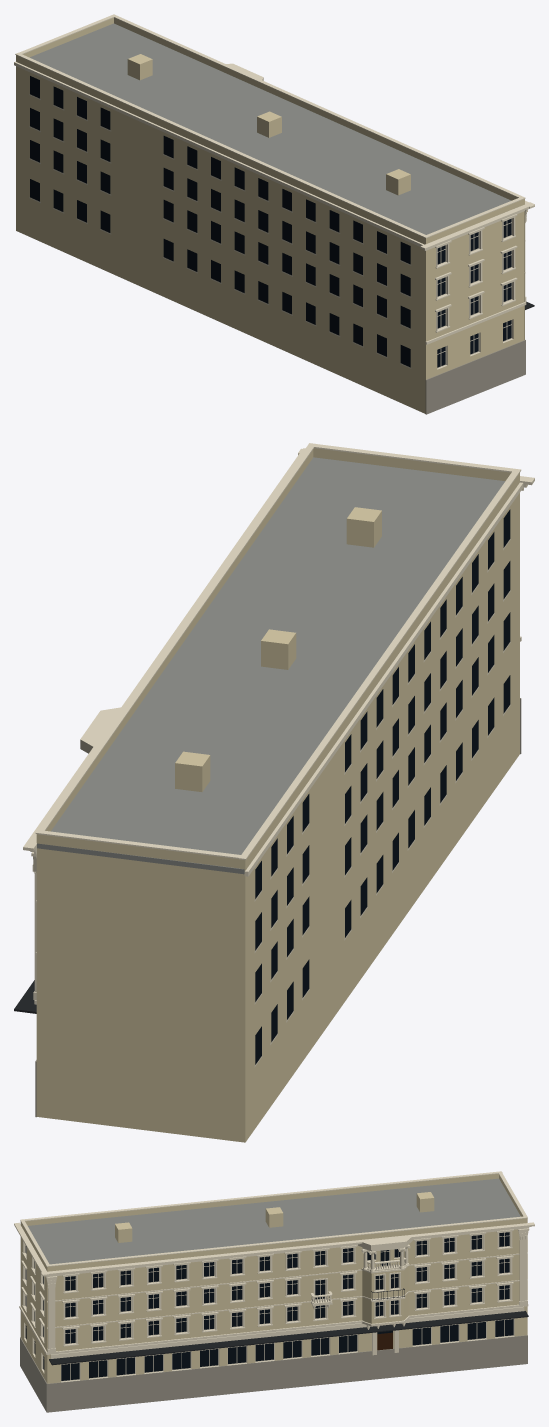
The model's file is bmorskaya48.glb.
The picture shows the model from 3 angles, top to bottom: view 1: azimuth 30°, elevation 25°; view 2: azimuth 150°, elevation 25°; view 3: azimuth 270°, elevation 25°; orthographic projection. The views are drawn at different scales.
Parts seen in each view (by area): view 1: bmorskaya48_wall, bmorskaya48_roof, bmorskaya48_glass, bmorskaya48_trim, bmorskaya48_stone; view 2: bmorskaya48_wall, bmorskaya48_roof, bmorskaya48_trim, bmorskaya48_glass; view 3: bmorskaya48_wall, bmorskaya48_trim, bmorskaya48_roof, bmorskaya48_stone, bmorskaya48_glass, bmorskaya48_metal, bmorskaya48_trim_s.
Part boxes in pixels (x1,y1,x2,y2): bmorskaya48_wall: (16, 18, 524, 413); bmorskaya48_roof: (29, 23, 511, 234); bmorskaya48_glass: (30, 76, 511, 367); bmorskaya48_trim: (14, 14, 534, 369); bmorskaya48_stone: (425, 340, 525, 414); bmorskaya48_wall: (36, 448, 519, 1142); bmorskaya48_roof: (37, 457, 504, 874); bmorskaya48_trim: (23, 443, 534, 1067); bmorskaya48_glass: (255, 509, 510, 1064); bmorskaya48_wall: (20, 1174, 527, 1383); bmorskaya48_trim: (14, 1171, 534, 1382); bmorskaya48_roof: (28, 1178, 520, 1264); bmorskaya48_stone: (20, 1335, 527, 1412); bmorskaya48_glass: (25, 1232, 513, 1380); bmorskaya48_metal: (49, 1288, 528, 1365); bmorskaya48_trim_s: (361, 1247, 410, 1272).
Size of the model in its own units: 26.03 by 18.6 by 57.07.
